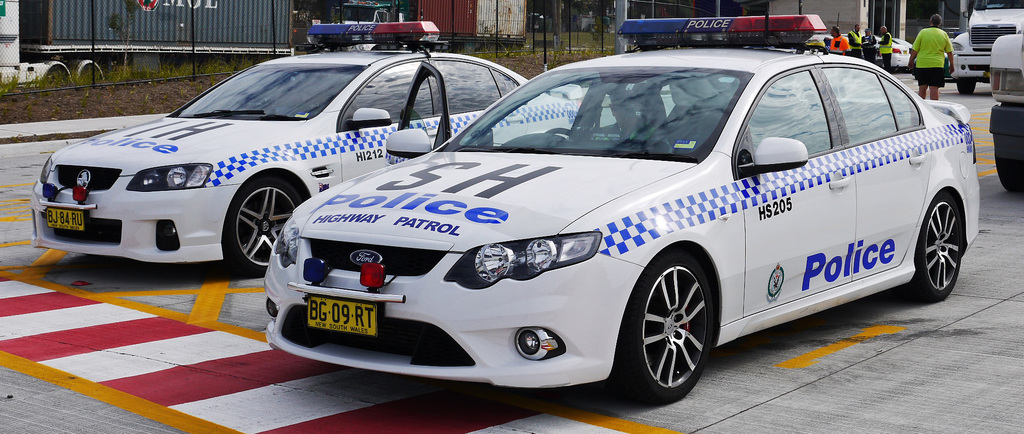cars: (262, 12, 981, 403), (28, 17, 589, 274), (886, 36, 913, 73)
